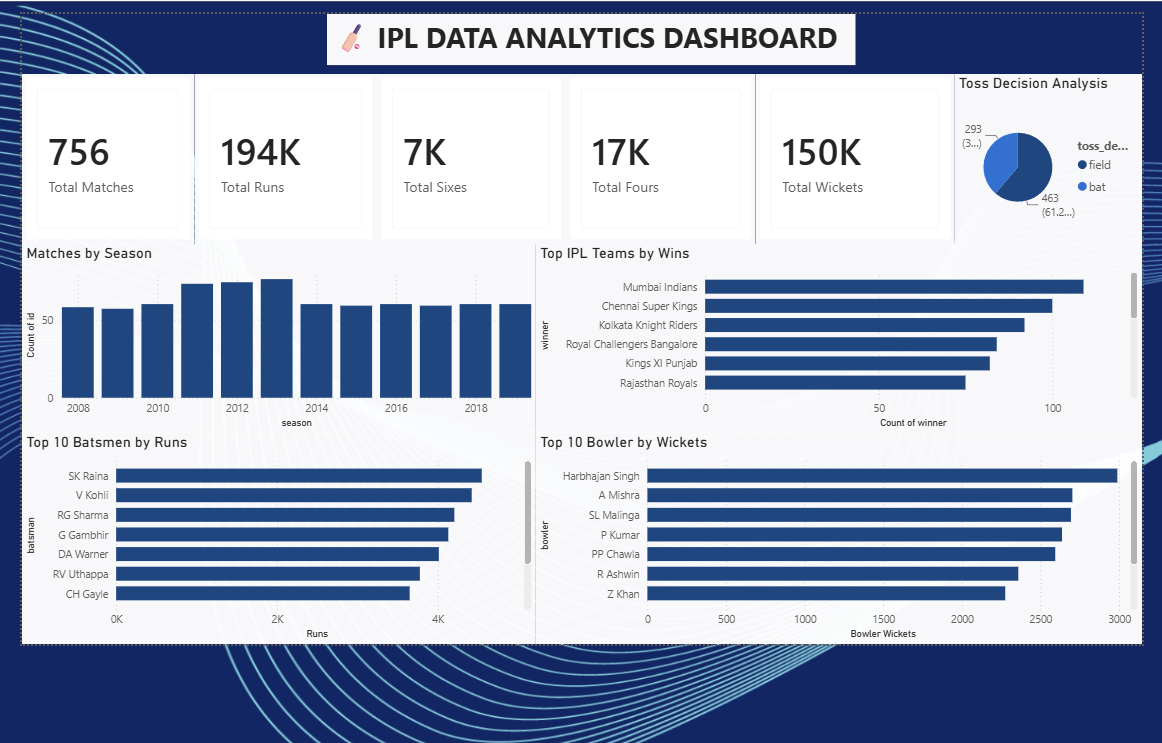

Layout of this report page (visuals, bound fields, positions):
{"tool":"powerbi","page":{"name":"Page 1","canvas":[1280,720],"ordinal":0},"visuals":[{"type":"cardVisual","fields":{"Data":["deliveries.Total Matches"]},"box":[0,68.6,197.1,194.3],"z":0},{"type":"cardVisual","fields":{"Data":["deliveries.Total Runs"]},"box":[197.1,68.6,208.6,194.3],"z":1000},{"type":"cardVisual","fields":{"Data":["deliveries.Total Sixes"]},"box":[405.7,68.6,215.7,194.3],"z":2000},{"type":"cardVisual","fields":{"Data":["deliveries.Total Fours"]},"box":[621.4,68.6,217.1,194.3],"z":3000},{"type":"cardVisual","fields":{"Data":["deliveries.Total Wickets"]},"box":[838.6,68.6,227.1,194.3],"z":4000},{"type":"clusteredColumnChart","title":"Matches by Season","fields":{"Category":["matches.season"],"Y":["CountNonNull(matches.id)"]},"box":[0,262.9,587.1,215.7],"z":5000},{"type":"clusteredBarChart","title":"Top IPL Teams by Wins","fields":{"Category":["matches.winner"],"Y":["CountNonNull(matches.winner)"]},"box":[587.1,262.9,692.9,215.7],"z":6000},{"type":"clusteredBarChart","title":"Top 10 Batsmen by Runs","fields":{"Category":["deliveries.batsman"],"Y":["deliveries.Runs"]},"box":[0,478.6,587.1,241.4],"z":7000},{"type":"clusteredBarChart","title":"Top 10 Bowler by Wickets","fields":{"Category":["deliveries.bowler"],"Y":["deliveries.Bowler Wickets"]},"box":[587.1,478.6,692.9,241.4],"z":8000},{"type":"pieChart","title":"Toss Decision Analysis","fields":{"Category":["matches.toss_decision"],"Y":["CountNonNull(matches.id)"]},"box":[1065.7,68.6,214.3,194.3],"z":9000},{"type":"textbox","box":[348.6,0,604.3,58.6],"z":10000}]}

Visuals, with their boxes on the page's 1280x720 design canvas (x1, y1, x2, y2). These are canvas units, not pixel positions in the 1162x743 screenshot, which may show the page scaled, cropped or inside an application window:
cardVisual - deliveries.Total Matches: BBox(0, 69, 197, 263)
cardVisual - deliveries.Total Runs: BBox(197, 69, 406, 263)
cardVisual - deliveries.Total Sixes: BBox(406, 69, 621, 263)
cardVisual - deliveries.Total Fours: BBox(621, 69, 838, 263)
cardVisual - deliveries.Total Wickets: BBox(839, 69, 1066, 263)
"Matches by Season" clusteredColumnChart: BBox(0, 263, 587, 479)
"Top IPL Teams by Wins" clusteredBarChart: BBox(587, 263, 1280, 479)
"Top 10 Batsmen by Runs" clusteredBarChart: BBox(0, 479, 587, 720)
"Top 10 Bowler by Wickets" clusteredBarChart: BBox(587, 479, 1280, 720)
"Toss Decision Analysis" pieChart: BBox(1066, 69, 1280, 263)
textbox: BBox(349, 0, 953, 59)
